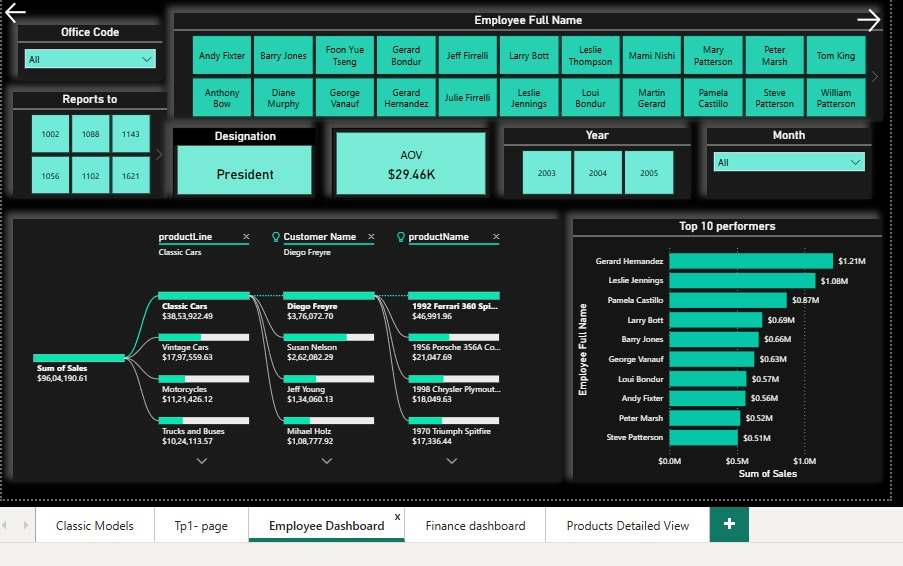

This screenshot's page, from the dashboard's own definition file:
{"tool":"powerbi","page":{"name":"Employee Dashboard","canvas":[1280,720],"ordinal":2},"visuals":[{"type":"clusteredBarChart","title":"Top 10 performers","fields":{"Y":["Sum(Order Details.Sales)"],"Category":["Employees.Employee Full Name"]},"box":[821.8,316.2,445,378.7],"z":0},{"type":"slicer","title":"Employee Full Name","fields":{"Values":["Employees.Employee Full Name"]},"box":[247,19.5,1020.7,156],"z":1000},{"type":"slicer","title":"Office Code","fields":{"Values":["Offices.officeCode"]},"box":[22.7,37.9,208.3,79.5],"z":2000},{"type":"decompositionTreeVisual","fields":{"Analyze":["Sum(Order Details.Sales)"],"ExplainBy":["Productlines.productLine","Customers.Full Name","Products.productName"]},"box":[15.1,316.2,789.6,378.7],"z":3000},{"type":"cardVisual","fields":{"Data":["Order Details.AOV"]},"box":[474.6,185.3,227.5,102.4],"z":4000},{"type":"slicer","title":"Reports to","fields":{"Values":["Employees.reportsTo"]},"box":[15.1,134.4,221.5,153.4],"z":5000},{"type":"slicer","title":"Year","fields":{"Values":["Orders.Order_Year"]},"box":[723.3,185.6,268.9,102.2],"z":6000},{"type":"slicer","title":"Month","fields":{"Values":["Orders.Month Name"]},"box":[1014.9,185.6,236.7,102.2],"z":7000},{"type":"actionButton","box":[0,0,100,40],"z":8000},{"type":"cardVisual","title":"Designation","fields":{"Data":["Min(Employees.jobTitle)"]},"box":[246.2,185.6,206.4,102.2],"z":9000},{"type":"actionButton","box":[1217.1,0,62.9,83],"z":10000}]}

Visuals, with their boxes on the page's 1280x720 design canvas (x1, y1, x2, y2). These are canvas units, not pixel positions in the 903x566 screenshot, which may show the page scaled, cropped or inside an application window:
"Top 10 performers" clusteredBarChart: left=822, top=316, right=1267, bottom=695
"Employee Full Name" slicer: left=247, top=20, right=1268, bottom=176
"Office Code" slicer: left=23, top=38, right=231, bottom=117
decompositionTreeVisual - Sum(Order Details.Sales) x Productlines.productLine: left=15, top=316, right=805, bottom=695
cardVisual - Order Details.AOV: left=475, top=185, right=702, bottom=288
"Reports to" slicer: left=15, top=134, right=237, bottom=288
"Year" slicer: left=723, top=186, right=992, bottom=288
"Month" slicer: left=1015, top=186, right=1252, bottom=288
actionButton: left=0, top=0, right=100, bottom=40
"Designation" cardVisual: left=246, top=186, right=453, bottom=288
actionButton: left=1217, top=0, right=1280, bottom=83
